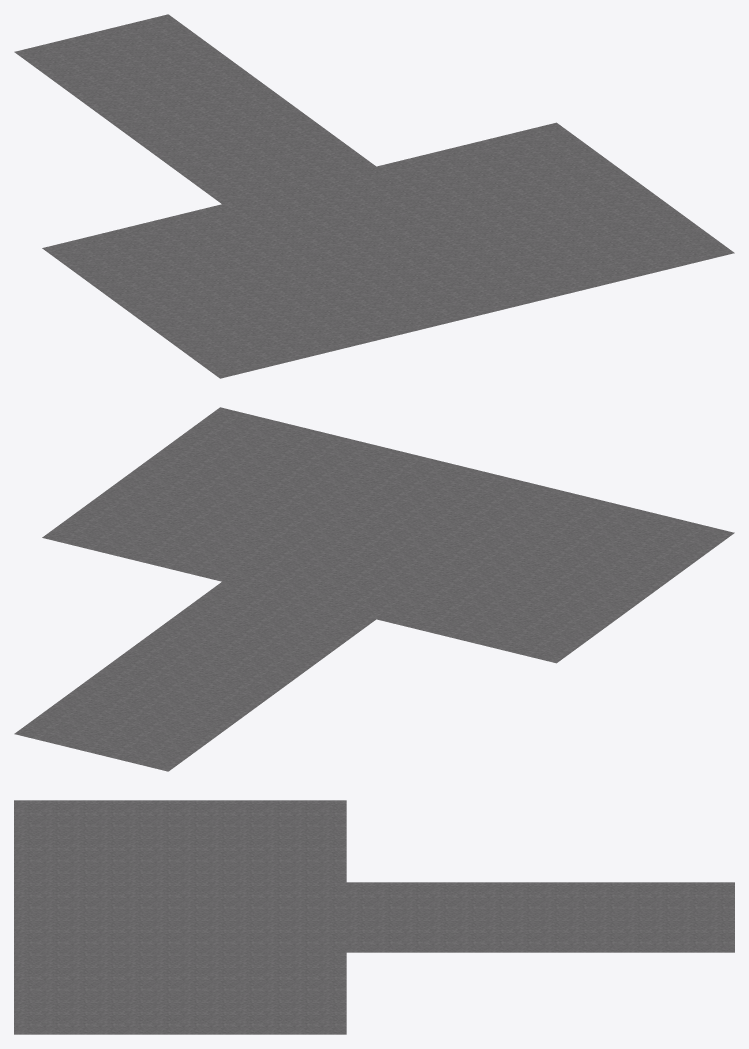
File: intersection_t.glb
3 views of the same model, one above another, from view 1: azimuth 30°, elevation 25°; view 2: azimuth 150°, elevation 25°; view 3: azimuth 270°, elevation 25° (orthographic). The views are drawn at different scales.
Parts seen in each view (by area): view 1: intersection_t-col; view 2: intersection_t-col; view 3: intersection_t-col.
Boxes of the visible parts, bbox=[...] form: intersection_t-col: bbox=[14, 14, 734, 378]; intersection_t-col: bbox=[14, 407, 734, 771]; intersection_t-col: bbox=[14, 800, 734, 1034].
Size of the model in its own units: 20 by 0 by 26.
1 material, 1 textured.
